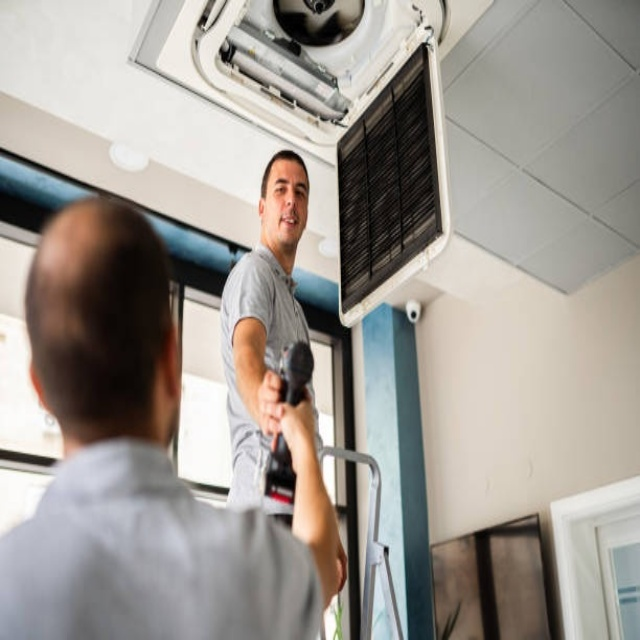Sin_gafas: (270, 171, 307, 202)
Sin_guantes: (252, 361, 321, 450)
Sin_mascara: (278, 207, 301, 235)
